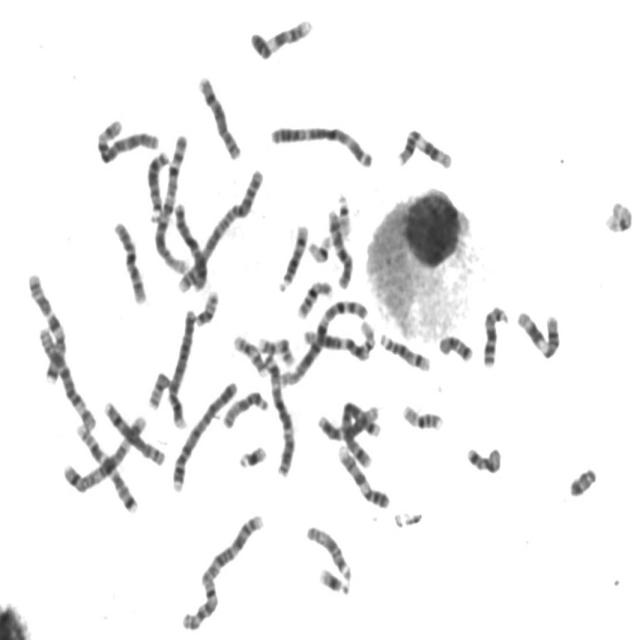A1: (274, 295, 372, 388), (151, 129, 191, 276)
A2: (174, 164, 266, 295), (177, 508, 266, 633)
A3: (266, 118, 375, 170), (260, 348, 298, 479)
B4: (168, 374, 240, 494), (164, 304, 198, 431)
B5: (60, 409, 148, 495), (338, 398, 378, 470)
C10: (110, 216, 149, 306), (324, 205, 355, 291)
C11: (394, 124, 454, 172), (513, 305, 562, 361)
C12: (314, 400, 382, 443), (299, 322, 372, 362)
C6: (35, 323, 98, 432), (93, 113, 161, 165)
C7: (72, 418, 140, 515), (23, 268, 70, 385)
C8: (100, 395, 168, 467), (194, 71, 243, 161)
C9: (334, 440, 392, 510), (247, 13, 316, 61)
D13: (144, 144, 172, 224), (480, 300, 511, 370)
D14: (274, 219, 310, 294), (377, 329, 432, 373)
D15: (302, 520, 353, 584), (220, 386, 270, 430)
E16: (293, 275, 334, 321), (399, 398, 445, 432)
E17: (230, 331, 269, 378), (255, 330, 297, 368)
E18: (463, 441, 504, 475), (436, 329, 475, 364)
F19: (601, 196, 635, 235), (305, 230, 334, 265)
F20: (145, 367, 172, 411), (193, 287, 220, 328)
G21: (315, 562, 353, 596), (235, 440, 269, 470)
G22: (332, 187, 353, 239), (356, 315, 377, 360)
X: (170, 198, 210, 293)
Y: (566, 462, 599, 498)
